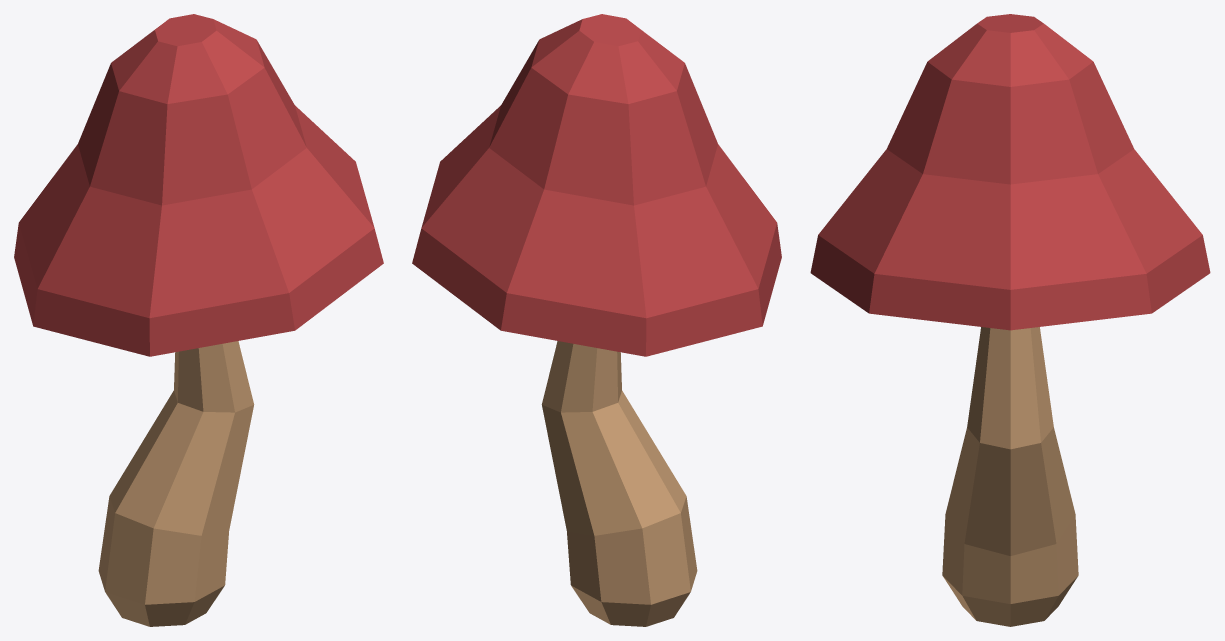
Rendered from mushroom.fbx.
3 views of the same model, side by side, from view 1: azimuth 30°, elevation 25°; view 2: azimuth 150°, elevation 25°; view 3: azimuth 270°, elevation 25° (orthographic). The views are drawn at different scales.
Visible parts, largest first — view 1: mushroom1_LOD0; view 2: mushroom1_LOD0; view 3: mushroom1_LOD0.
Boxes of the visible parts, left/top/right/bottom form: mushroom1_LOD0: left=14, top=14, right=383, bottom=626; mushroom1_LOD0: left=412, top=14, right=781, bottom=626; mushroom1_LOD0: left=810, top=14, right=1210, bottom=626.
Size of the model in its own units: 0.842 by 1.4 by 0.8465.
